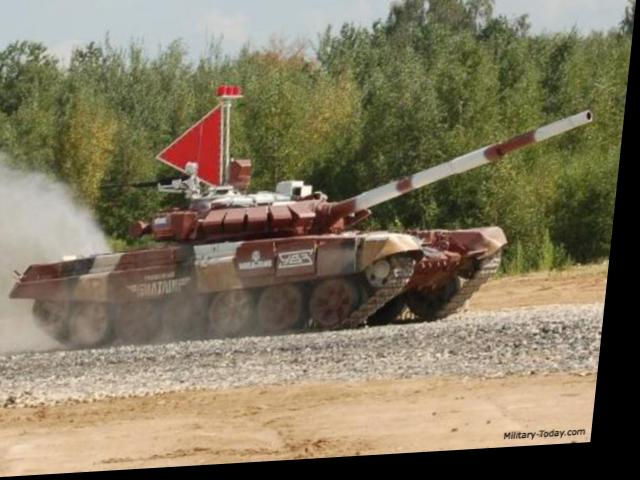tank: (28, 162, 521, 342)
